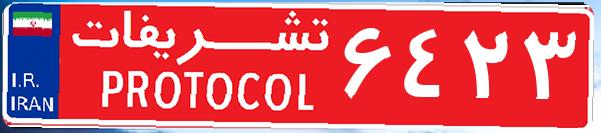2: (460, 20, 520, 115)
3: (520, 20, 580, 115)
4: (400, 20, 460, 115)
6: (340, 20, 400, 115)
تشریفات: (60, 8, 340, 125)
